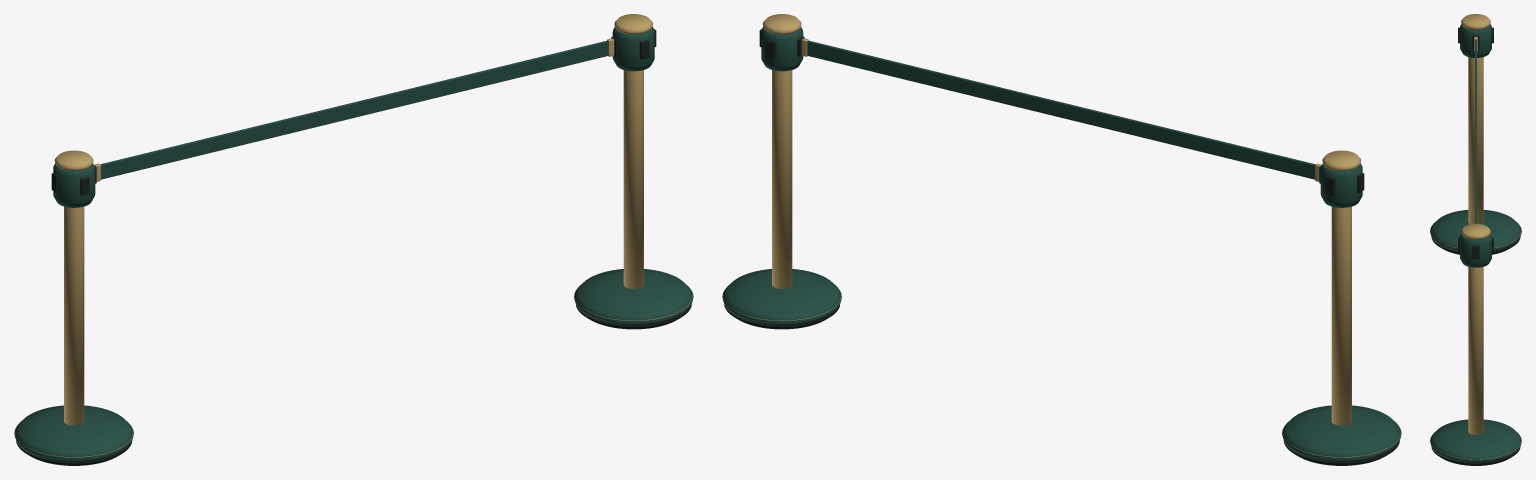
The model's file is mall-queue-long.glb.
3 views of the same model, side by side, from view 1: azimuth 30°, elevation 25°; view 2: azimuth 150°, elevation 25°; view 3: azimuth 270°, elevation 25° (orthographic). The views are drawn at different scales.
Parts seen in each view (by area): view 1: MODULE_Post_Left, MODULE_Post_Right, MODULE_Belt; view 2: MODULE_Post_Left, MODULE_Post_Right, MODULE_Belt; view 3: MODULE_Post_Right, MODULE_Post_Left, MODULE_Belt.
Part boxes in pixels (bbox=[...]): MODULE_Post_Left: bbox=[14, 150, 133, 465]; MODULE_Post_Right: bbox=[574, 14, 693, 329]; MODULE_Belt: bbox=[94, 38, 614, 181]; MODULE_Post_Left: bbox=[1282, 150, 1401, 465]; MODULE_Post_Right: bbox=[722, 14, 841, 329]; MODULE_Belt: bbox=[801, 38, 1321, 181]; MODULE_Post_Right: bbox=[1430, 223, 1521, 465]; MODULE_Post_Left: bbox=[1430, 14, 1521, 254]; MODULE_Belt: bbox=[1474, 37, 1477, 223].
Size of the model in its own units: 2.37 by 0.976 by 0.37.
